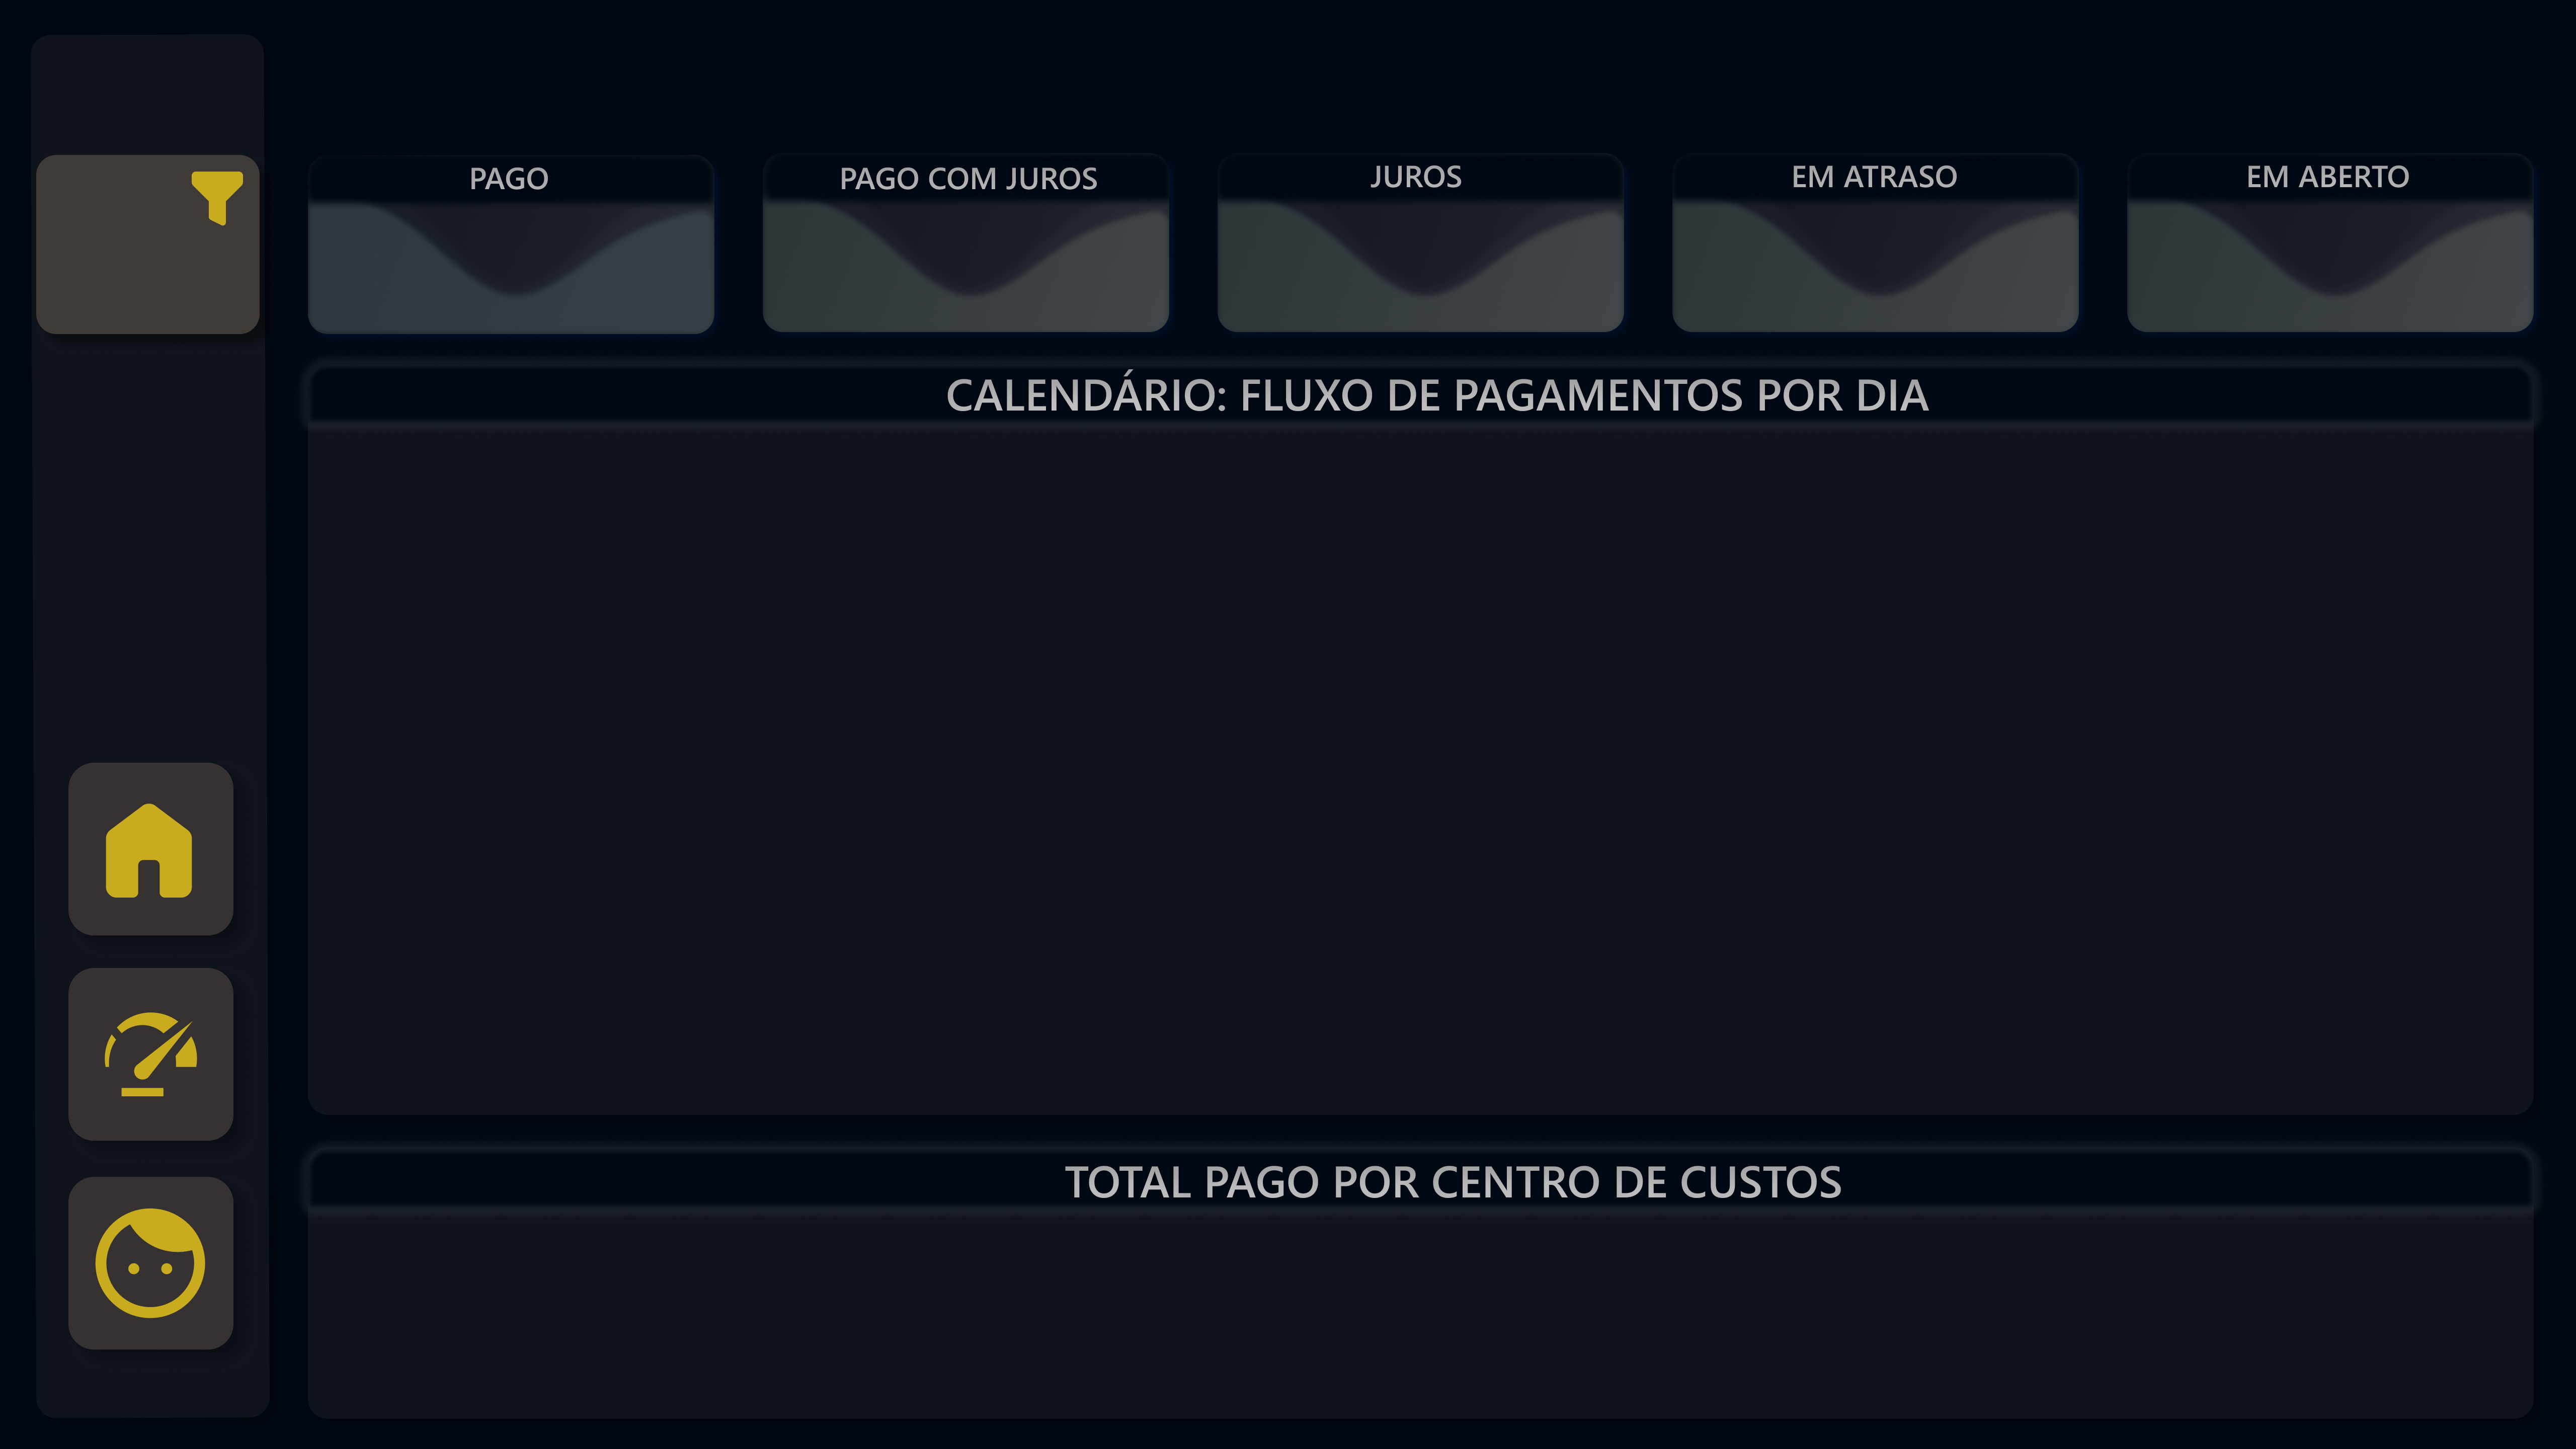

Layout of this report page (visuals, bound fields, positions):
{"tool":"powerbi","page":{"name":"Operacional","canvas":[1280,720],"ordinal":1},"visuals":[{"type":"pivotTable","title":"CALENDÁRIO: FLUXO DE PAGAMENTOS POR DIA","fields":{"Rows":["dCalendario.Nome do Mês","dCalendario.Semana do Mês"],"Columns":["dCalendario.Dia_Texto"],"Values":["Sum(fVendas.VALOR_ORIGINAL)"]},"box":[232.9,153.5,964.6,393.9],"z":0},{"type":"card","title":"Pago","fields":{"Values":["Medidas.Total_Pago"]},"box":[150,26,208.2,88.2],"z":1000},{"type":"card","title":"Em aberto","fields":{"Values":["Medidas.Total_a_Pagar"]},"box":[1043.4,26,224.2,88.3],"z":2000},{"type":"card","title":"Em Atraso","fields":{"Values":["Medidas.Total_Atrasado"]},"box":[818.1,26,225.8,87.3],"z":3000},{"type":"card","title":"Juros ","fields":{"Values":["Medidas.Total_Juros"]},"box":[594.4,26,223.3,87.2],"z":4000},{"type":"card","title":"Pago com Juros","fields":{"Values":["Medidas.Total Pago com Juros"]},"box":[378.2,26,208.2,87.3],"z":5000},{"type":"lineStackedColumnComboChart","title":"TOTAL PAGO POR CENTRO DE CUSTOS","fields":{"Category":["dCentroCusto.CENTRO_CUSTO"],"Y":["Medidas.Pago_Total"]},"box":[139.5,570.3,1130.9,143.6],"z":6000},{"type":"actionButton","box":[31.8,265.8,86.8,85.8],"z":7000},{"type":"actionButton","box":[31.8,369.5,86.8,85.8],"z":8000},{"type":"actionButton","box":[53.1,584.4,43.1,45],"z":9000},{"type":"actionButton","box":[53.1,641.9,43.1,45],"z":10000},{"type":"actionButton","box":[44.8,44.5,56.2,45],"z":12000}]}

Visuals, with their boxes in screenshot pixels (x1, y1, x2, y2), scaled from the page's 1280x720 canvas onto the 2576x1449 screenshot:
"CALENDÁRIO: FLUXO DE PAGAMENTOS POR DIA" pivotTable: crop(469, 309, 2410, 1102)
"Pago" card: crop(302, 52, 721, 230)
"Em aberto" card: crop(2100, 52, 2551, 230)
"Em Atraso" card: crop(1646, 52, 2101, 228)
"Juros " card: crop(1196, 52, 1646, 228)
"Pago com Juros" card: crop(761, 52, 1180, 228)
"TOTAL PAGO POR CENTRO DE CUSTOS" lineStackedColumnComboChart: crop(281, 1148, 2557, 1437)
actionButton: crop(64, 535, 238, 707)
actionButton: crop(64, 744, 238, 916)
actionButton: crop(107, 1176, 194, 1267)
actionButton: crop(107, 1292, 194, 1383)
actionButton: crop(90, 90, 203, 180)
